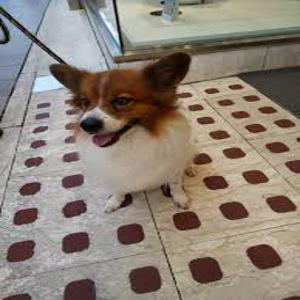yell: (49, 52, 196, 213)
